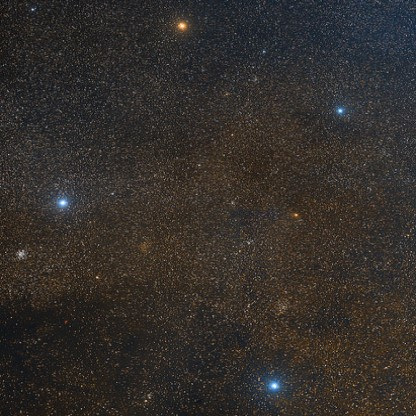Southern Cross: (164, 14, 195, 49), (262, 367, 288, 404), (323, 96, 356, 120), (49, 188, 73, 216)
